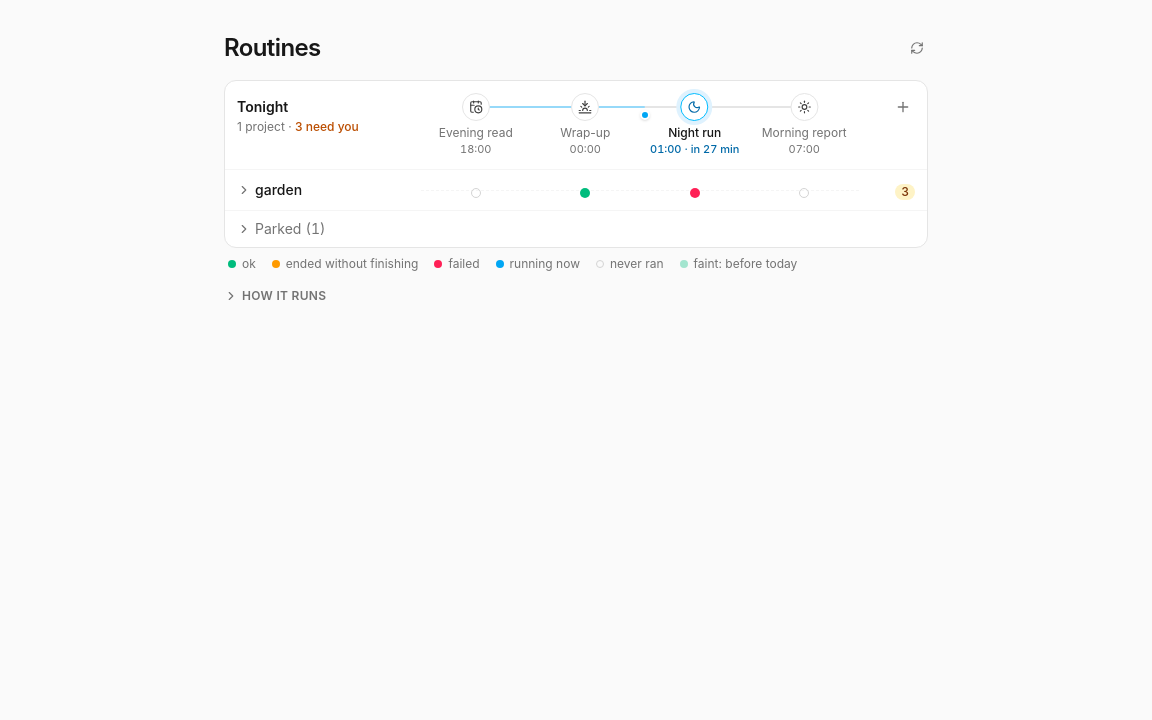
Test: the Routines page › opens a project to a few facts with last night’s report, and edits the budget
Click the button "garden". click: (325, 190)
box: [237,180,413,200]
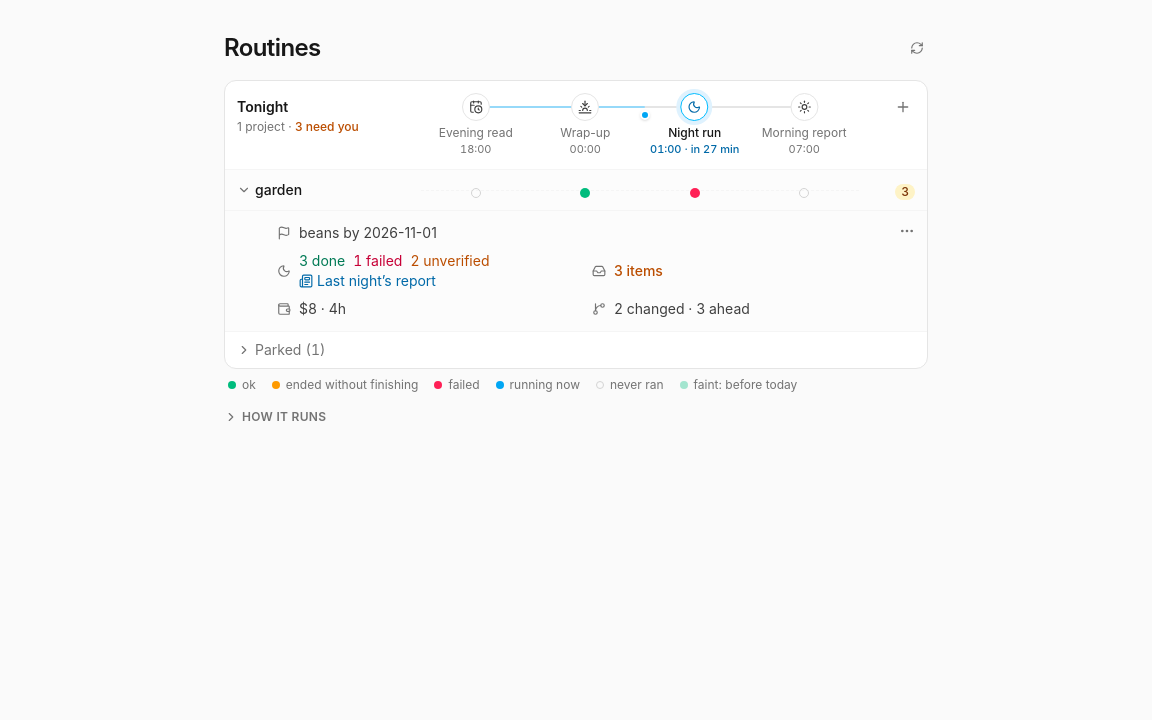
Expected: the text "beans by 2026-11-01" is shown, [299,223,437,243]
Expected: the element showing "3 done 1 failed 2 unverified" is shown, [299,251,490,271]
Expected: the link "3 items" is shown, [614,262,663,279]
Click the button named "Night budget for garden". click: (330, 309)
box: [299,299,362,319]
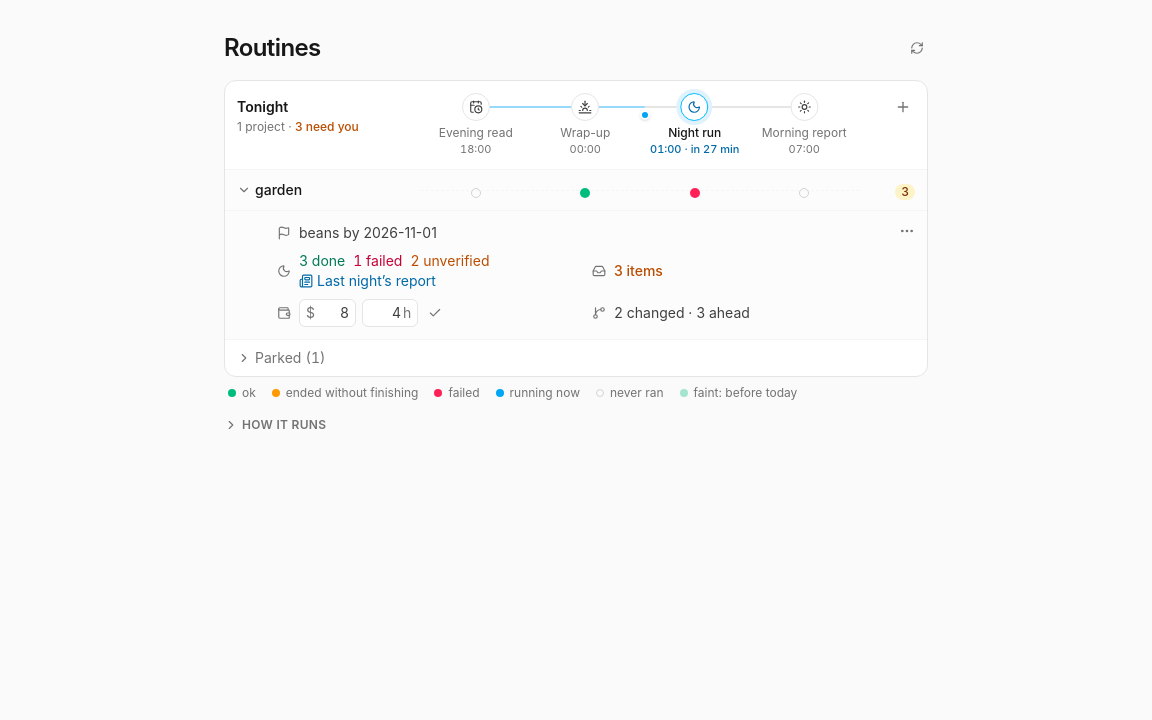
Replace the text in the number field named "Night budget in dollars for garden" with "10". click: (333, 313)
box: [317,303,349,323]
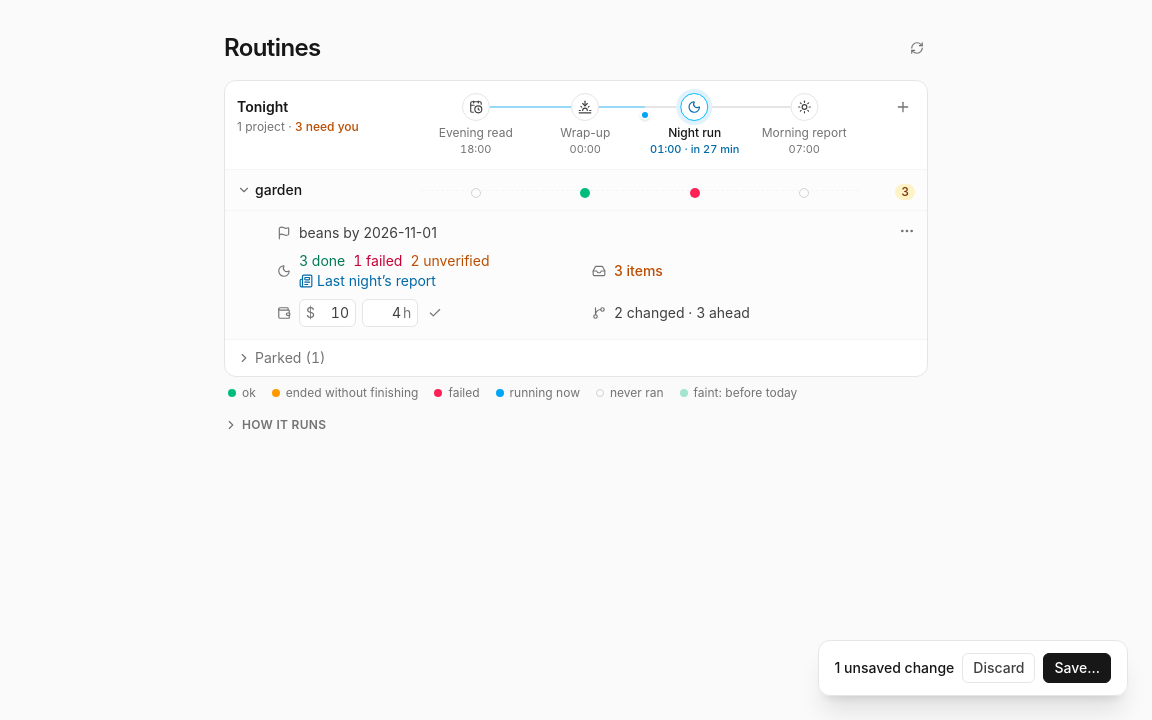
Click the button "Save…". click: (1077, 668)
box: [1044,653,1111,683]
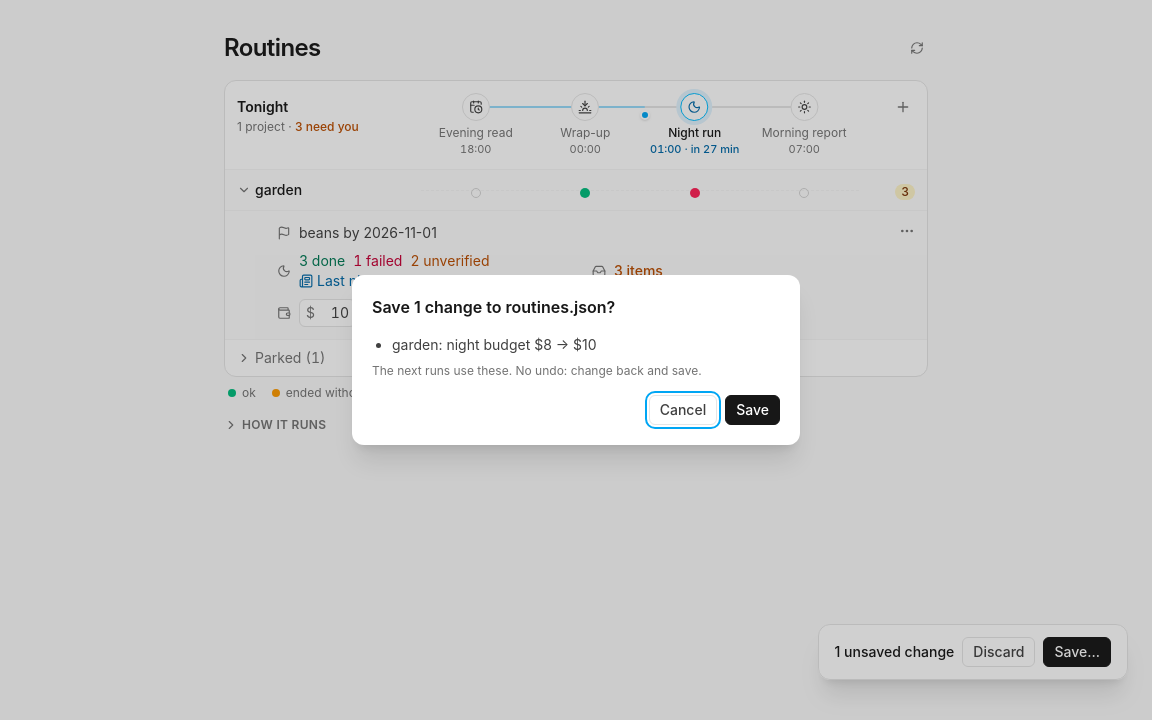
Click the button "Save". click: (753, 410)
box: [725,395,780,425]
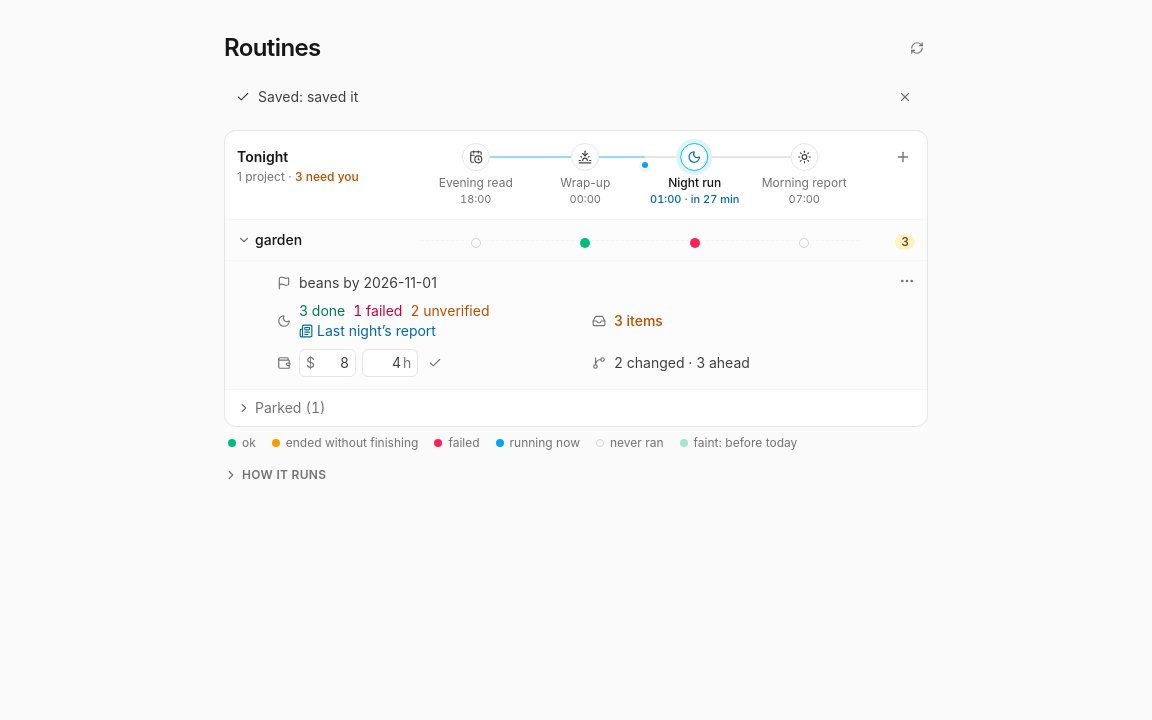
Expected: the text "Saved: saved it" is shown, [258,88,358,105]
